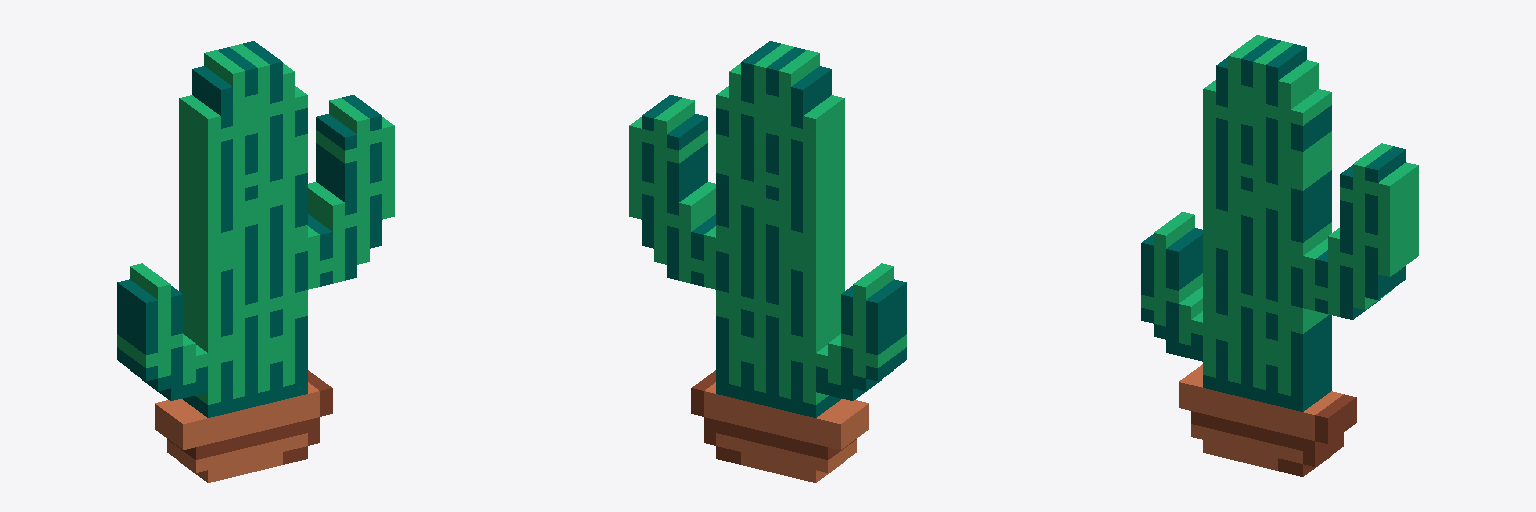
File: cactus.obj
The picture shows the model from 3 angles: view 1: azimuth 30°, elevation 25°; view 2: azimuth 150°, elevation 25°; view 3: azimuth 330°, elevation 25°; orthographic projection.
Bounding box in the file's own units: 20 × 31 × 4.